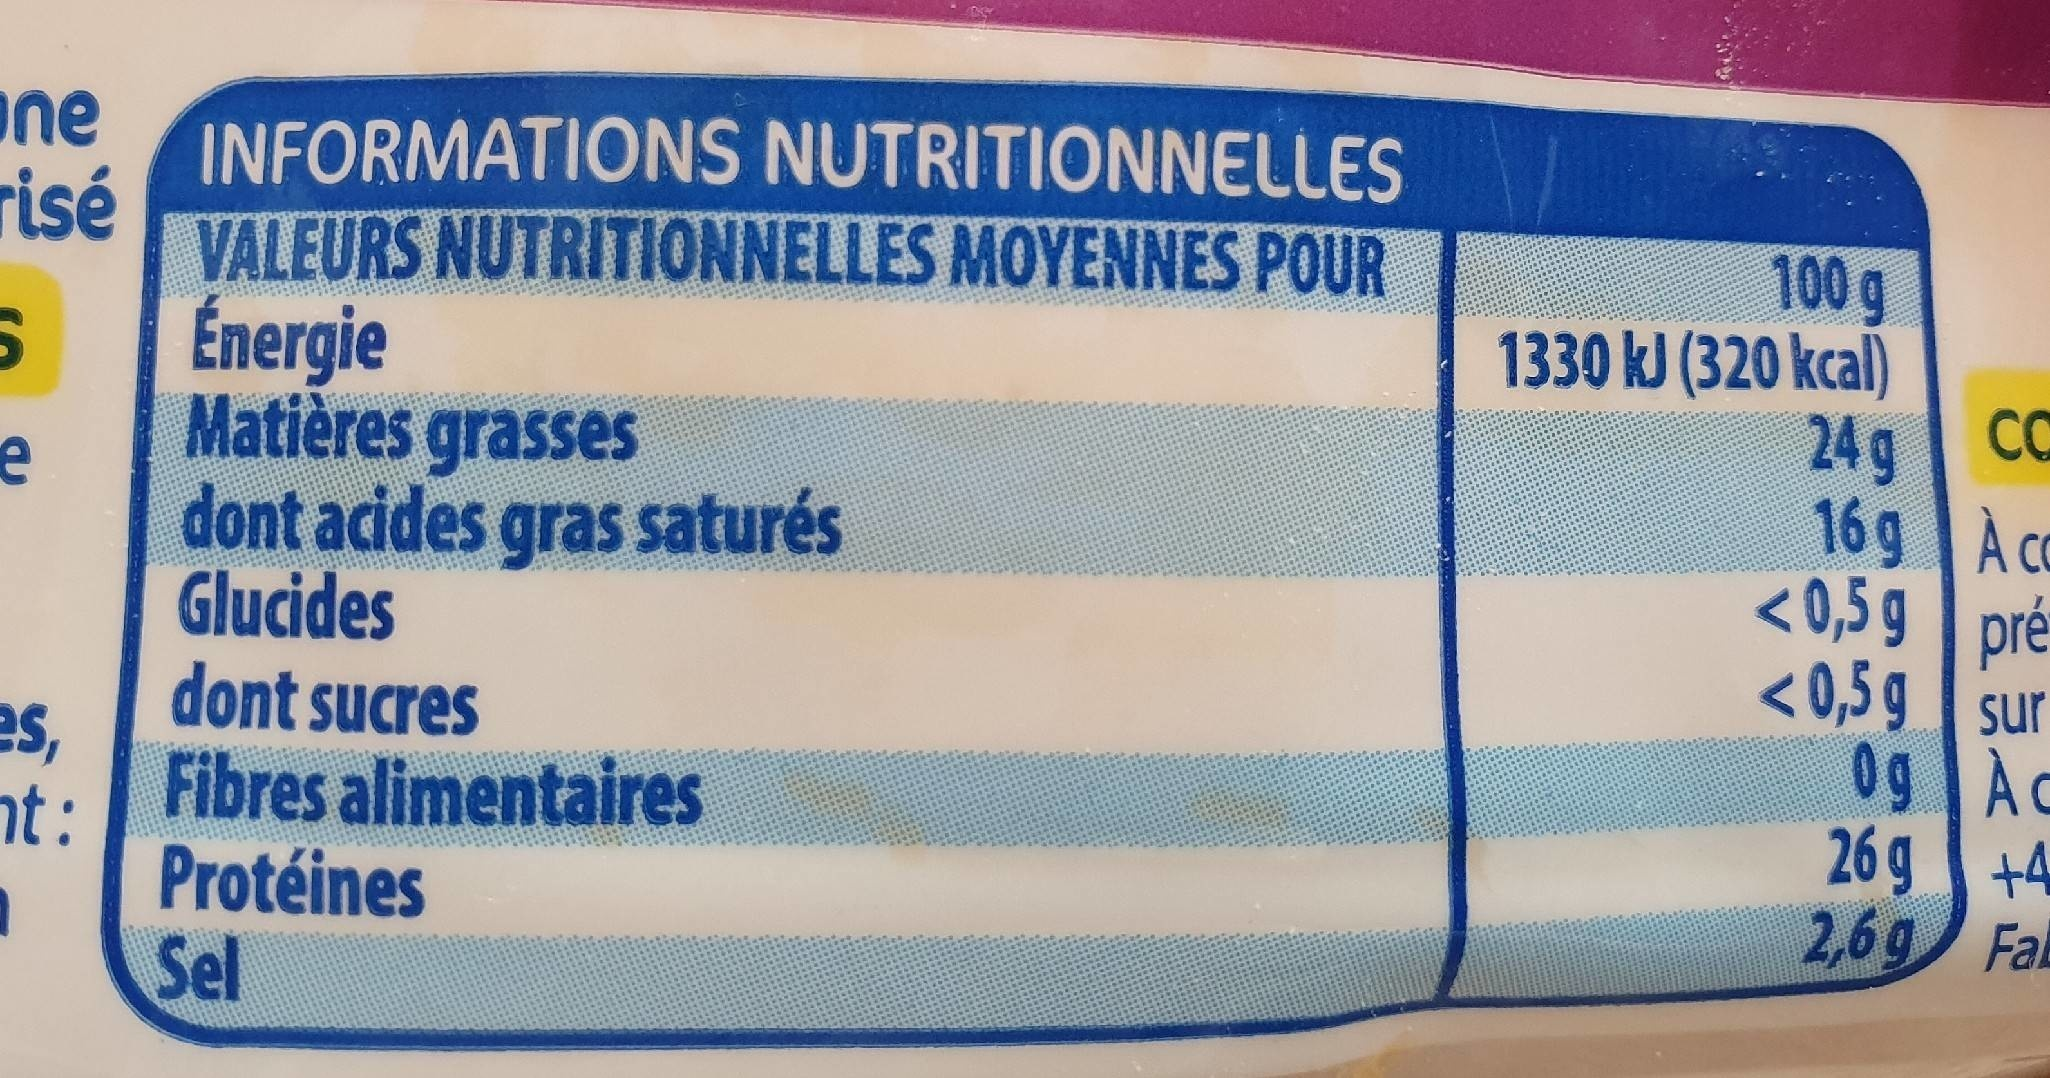column: (161, 217, 1394, 1010), (1504, 254, 1917, 978)
table: (104, 77, 1959, 1050)
